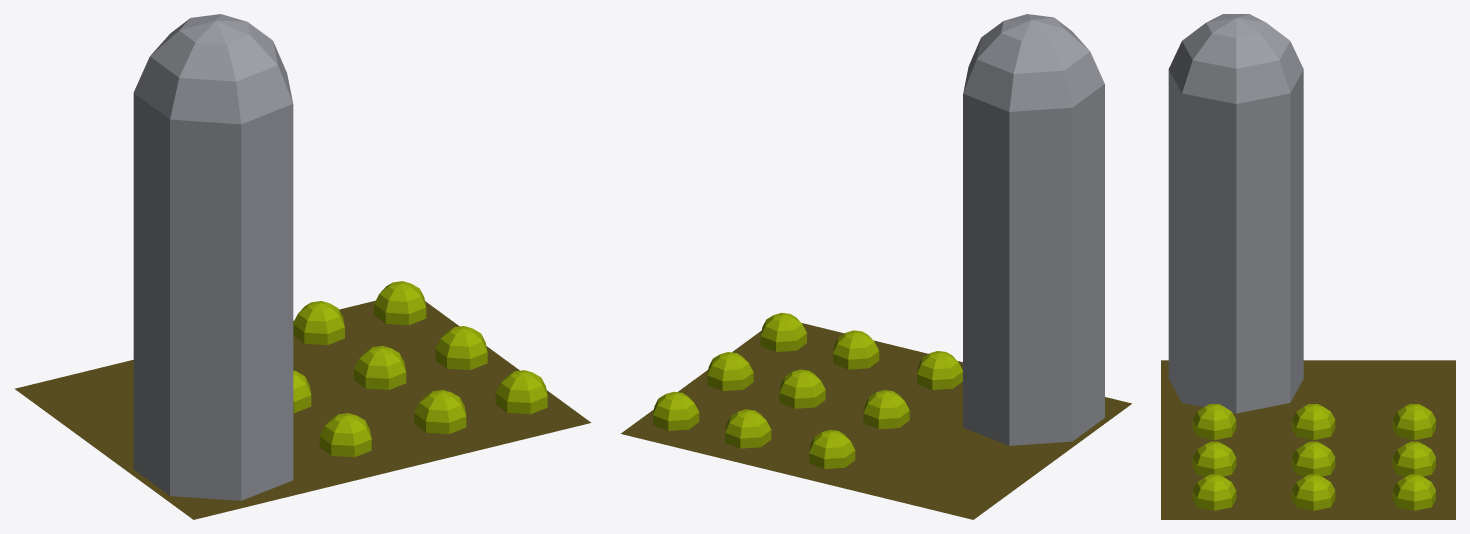
File: farm_maya_to_unity.fbx
3 views of the same model, side by side, from view 1: azimuth 30°, elevation 25°; view 2: azimuth 150°, elevation 25°; view 3: azimuth 270°, elevation 25° (orthographic). The views are drawn at different scales.
Parts seen in each view (by area): view 1: pSphere9, pPlane2, pasted__pasted__pasted__pSphere5 (×4), pasted__pasted__pSphere5 (×2), pasted__pSphere5; view 2: pSphere9, pPlane2, pasted__pasted__pSphere5 (×4), pasted__pasted__pasted__pSphere5 (×4), pasted__pSphere5; view 3: pSphere9, pPlane2, pasted__pasted__pSphere5 (×4), pasted__pasted__pasted__pSphere5 (×4), pasted__pSphere5.
Part boxes in pixels (bbox=[...]): pSphere9: bbox=[133, 14, 293, 500]; pPlane2: bbox=[14, 300, 591, 519]; pasted__pasted__pasted__pSphere5 (×4): bbox=[293, 281, 487, 389]; pasted__pasted__pSphere5 (×2): bbox=[414, 370, 547, 434]; pasted__pSphere5: bbox=[319, 413, 371, 457]; pSphere9: bbox=[963, 14, 1104, 445]; pPlane2: bbox=[621, 323, 1131, 519]; pasted__pasted__pSphere5 (×4): bbox=[760, 312, 909, 468]; pasted__pasted__pasted__pSphere5 (×4): bbox=[653, 352, 825, 448]; pasted__pSphere5: bbox=[917, 351, 962, 389]; pSphere9: bbox=[1168, 14, 1303, 413]; pPlane2: bbox=[1161, 360, 1455, 519]; pasted__pasted__pSphere5 (×4): bbox=[1192, 404, 1435, 510]; pasted__pasted__pasted__pSphere5 (×4): bbox=[1292, 441, 1435, 510]; pasted__pSphere5: bbox=[1192, 404, 1236, 440].
Size of the model in its own units: 2.92 by 3.16 by 2.28.
